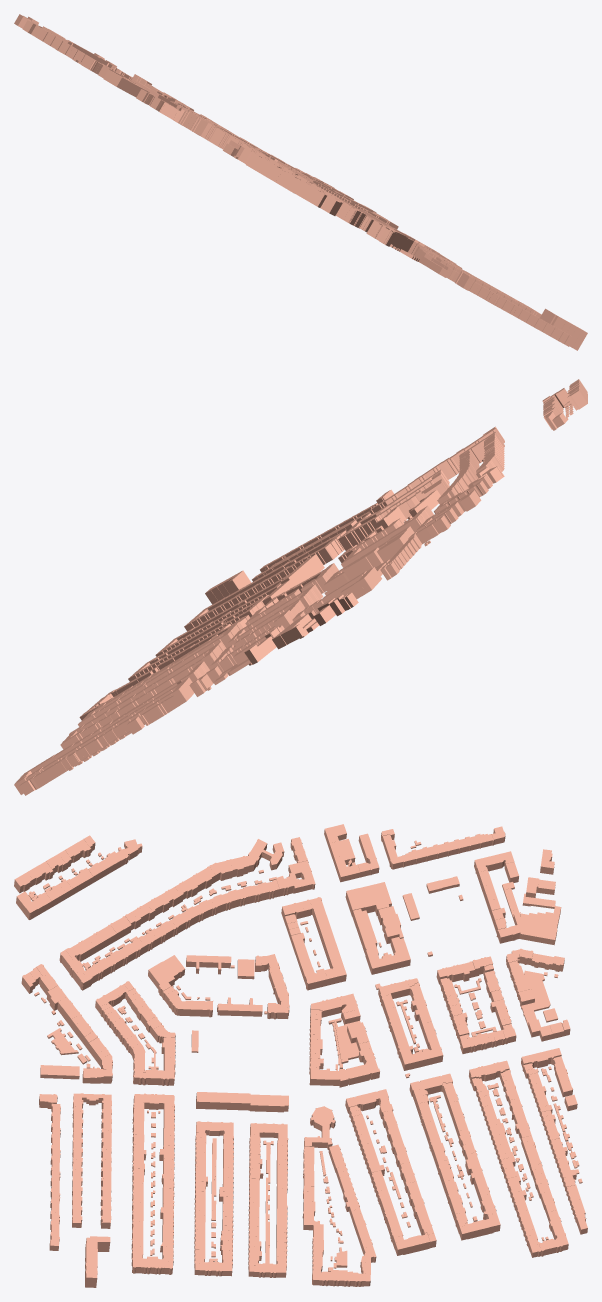
3 views of the same model, one above another, from view 1: azimuth 30°, elevation 25°; view 2: azimuth 150°, elevation 25°; view 3: azimuth 270°, elevation 25° (orthographic). The views are drawn at different scales.
Bounding box in the file's own units: 494 × 362 × 641.
